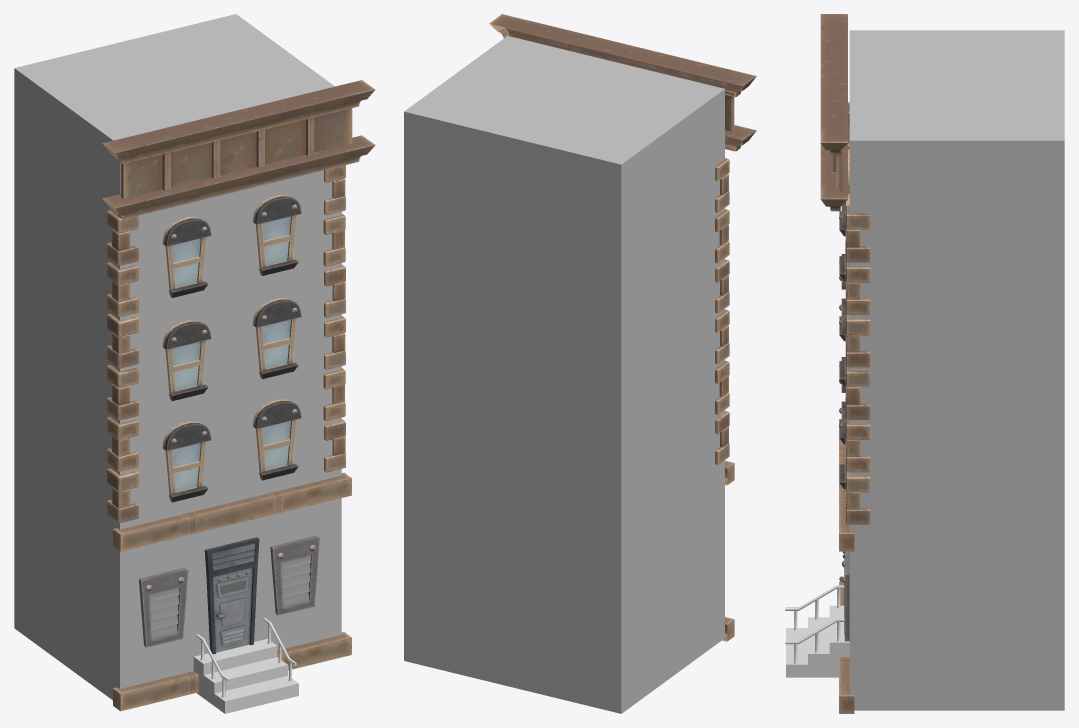
File: Ev_Alleybuilding_3.fbx
3 views of the same model, side by side, from view 1: azimuth 30°, elevation 25°; view 2: azimuth 150°, elevation 25°; view 3: azimuth 270°, elevation 25° (orthographic). The views are drawn at different scales.
Visible parts, largest first — view 1: Object076, Box869, P_Frame_068, P_Frame_067, Box871, stair5, Box874, Box875, P_Frame_066, Box872, Box873, P_Window_188 (+7 smaller); view 2: Object076, Box869, P_Frame_068, Box875, Box874; view 3: Object076, Box869, P_Frame_068, Box877, Box876, stair5, P_Frame_067, P_Frame_066, Box873, banister7, banister8.
Part boxes in pixels (x1=…): Object076: x1=14, y1=14, x2=341, y2=529; Box869: x1=14, y1=457, x2=341, y2=700; P_Frame_068: x1=102, y1=80, x2=375, y2=219; P_Frame_067: x1=113, y1=472, x2=351, y2=551; Box871: x1=204, y1=537, x2=259, y2=654; stair5: x1=193, y1=638, x2=298, y2=713; Box874: x1=107, y1=365, x2=138, y2=523; Box875: x1=107, y1=210, x2=138, y2=368; P_Frame_066: x1=113, y1=632, x2=351, y2=711; Box872: x1=139, y1=567, x2=188, y2=647; Box873: x1=270, y1=535, x2=319, y2=615; P_Window_188: x1=162, y1=421, x2=211, y2=502; Object076: x1=404, y1=36, x2=724, y2=546; Box869: x1=404, y1=471, x2=724, y2=713; P_Frame_068: x1=489, y1=14, x2=756, y2=151; Box875: x1=715, y1=158, x2=729, y2=313; Box874: x1=715, y1=309, x2=729, y2=464; Object076: x1=849, y1=30, x2=1064, y2=536; Box869: x1=849, y1=537, x2=1064, y2=710; P_Frame_068: x1=820, y1=14, x2=847, y2=211; Box877: x1=846, y1=205, x2=870, y2=367; Box876: x1=846, y1=366, x2=870, y2=524; stair5: x1=786, y1=605, x2=849, y2=677; P_Frame_067: x1=839, y1=419, x2=854, y2=551; P_Frame_066: x1=839, y1=581, x2=854, y2=713; Box873: x1=842, y1=551, x2=849, y2=641; banister7: x1=785, y1=585, x2=844, y2=630; banister8: x1=785, y1=618, x2=844, y2=663.
Bounding box in the file's own units: 34.52 × 72.45 × 31.55.
